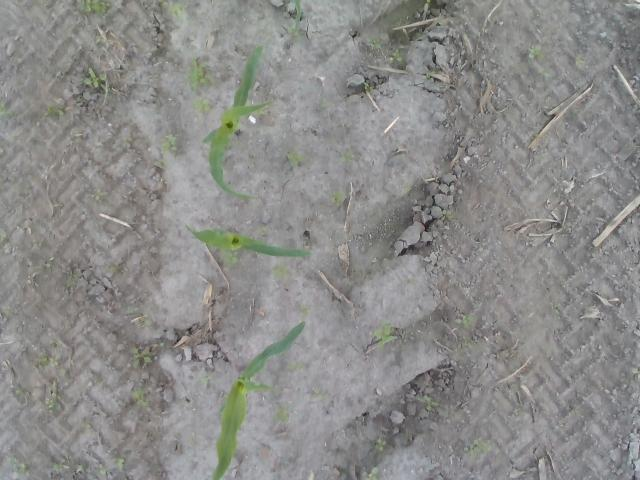Maize: (212, 321, 306, 480), (202, 46, 270, 202), (185, 224, 312, 267)
Weeds: (183, 56, 214, 95), (80, 64, 112, 96), (370, 318, 400, 352), (463, 437, 497, 462), (416, 394, 448, 416), (78, 0, 114, 19), (286, 1, 304, 38), (127, 305, 154, 327), (126, 384, 150, 406), (131, 343, 152, 368), (157, 0, 186, 18), (47, 454, 73, 471), (270, 403, 290, 424), (33, 351, 55, 370), (2, 456, 26, 472), (455, 313, 480, 328), (160, 135, 178, 155), (48, 381, 59, 413), (328, 190, 346, 208), (526, 46, 544, 63), (401, 179, 416, 199), (288, 152, 306, 168), (192, 98, 212, 112), (366, 35, 386, 49), (40, 255, 56, 272), (272, 262, 288, 279), (440, 208, 456, 225), (46, 103, 64, 118), (0, 98, 16, 114), (388, 47, 403, 64), (336, 150, 352, 164), (112, 456, 128, 470), (286, 360, 304, 372), (374, 436, 387, 452), (367, 464, 380, 480), (90, 190, 110, 200), (2, 304, 15, 318), (298, 303, 309, 319), (66, 271, 76, 288), (551, 303, 561, 320), (361, 81, 374, 94), (93, 463, 107, 475), (631, 366, 640, 384), (0, 222, 7, 245), (48, 338, 63, 348), (254, 225, 266, 237), (196, 375, 210, 385), (32, 238, 46, 248), (414, 28, 428, 37), (537, 66, 549, 76), (512, 406, 524, 416), (462, 335, 472, 346), (95, 32, 104, 44), (158, 159, 168, 169), (422, 0, 432, 10), (84, 422, 94, 432), (14, 384, 22, 396), (77, 464, 89, 472), (422, 73, 434, 81), (31, 120, 41, 129), (576, 54, 584, 64), (26, 274, 32, 286)
